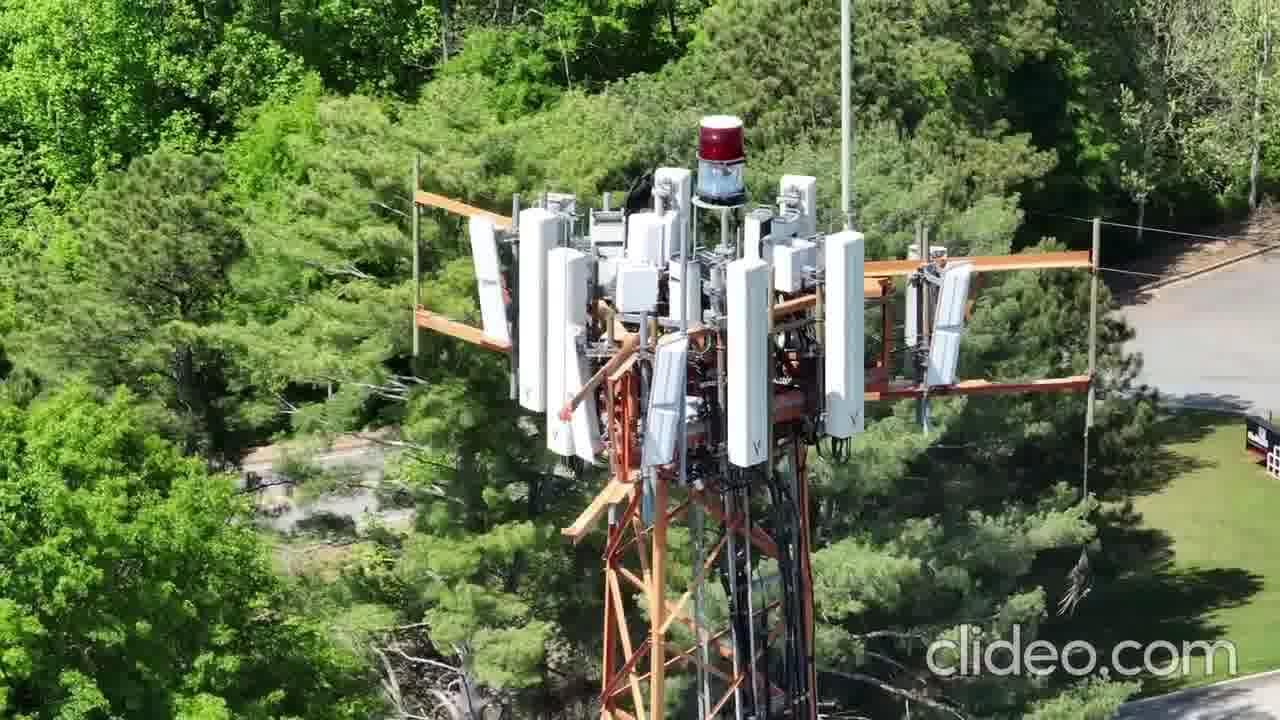antenna: (720, 254, 781, 468), (817, 221, 872, 451), (515, 208, 569, 421), (544, 242, 589, 462), (919, 251, 975, 407), (467, 210, 515, 357), (605, 256, 660, 327)
